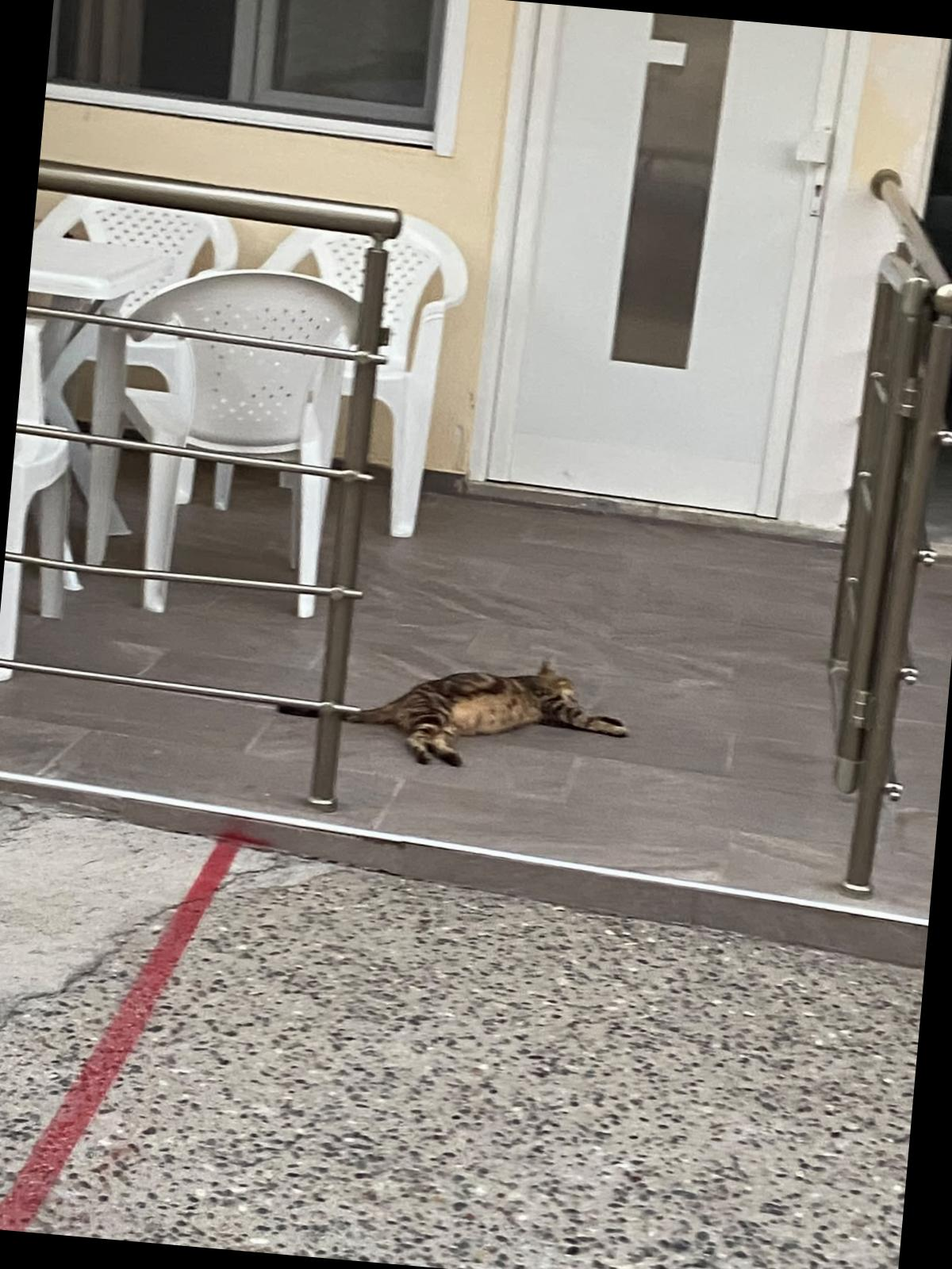macka: (273, 636, 635, 783)
